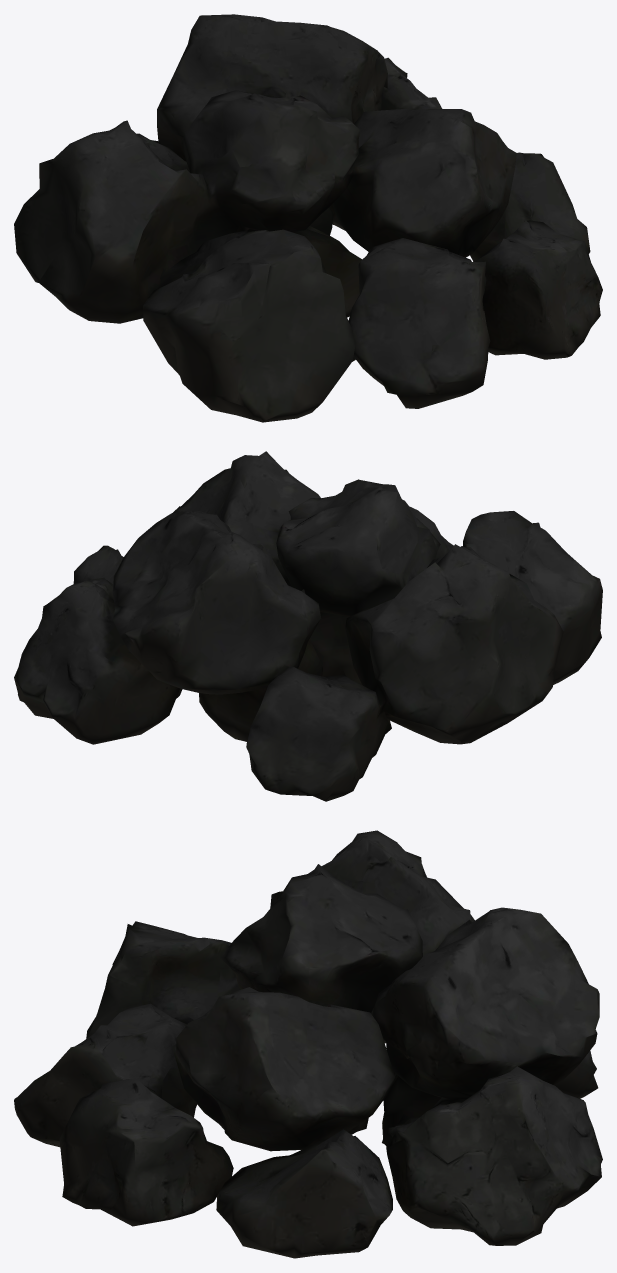
The model's file is charcoal_lumps.glb.
3 renders of one model, top to bottom at view 1: azimuth 30°, elevation 25°; view 2: azimuth 150°, elevation 25°; view 3: azimuth 270°, elevation 25°, orthographic. The views are drawn at different scales.
Visible parts, largest first — view 1: charcoal_lumps; view 2: charcoal_lumps; view 3: charcoal_lumps.
Boxes of the visible parts, x1=… form: charcoal_lumps: x1=14, y1=14, x2=602, y2=422; charcoal_lumps: x1=14, y1=451, x2=602, y2=801; charcoal_lumps: x1=14, y1=830, x2=602, y2=1258.
Bounding box in the file's own units: 0.25 × 0.108 × 0.2494.
1 material, 1 textured.
